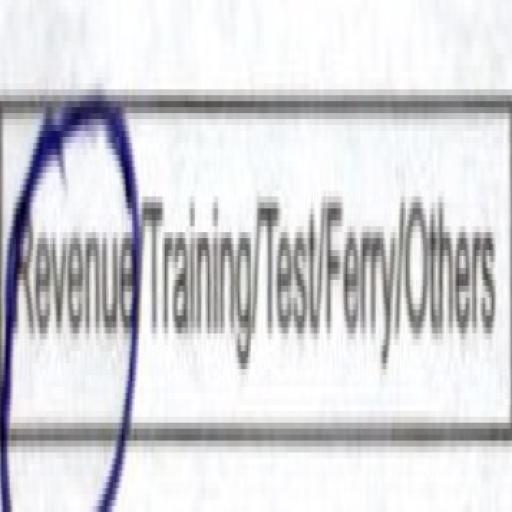check: (0, 30, 138, 500)
